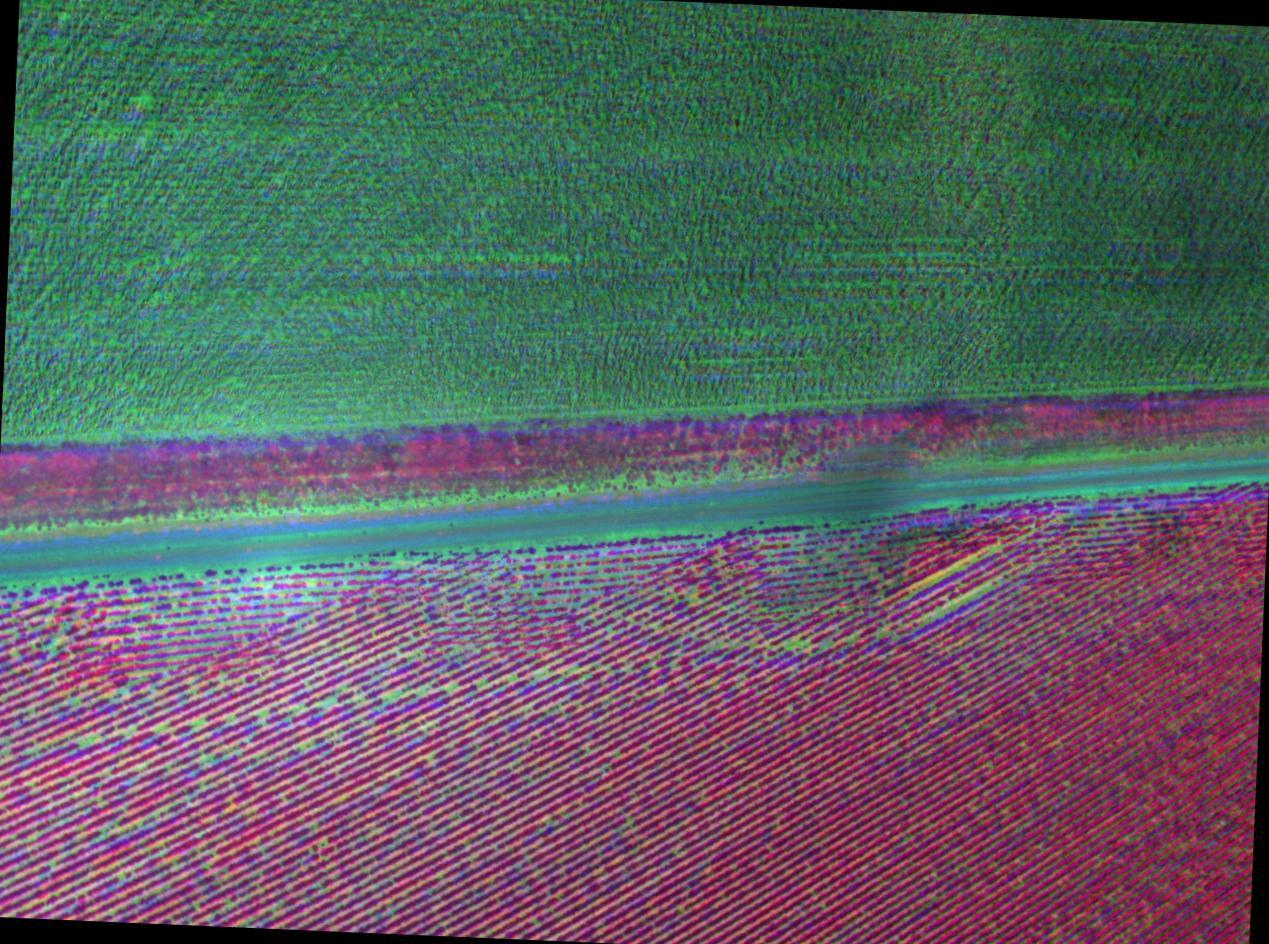dc: (80, 734, 92, 745), (155, 724, 165, 735), (785, 640, 795, 650), (225, 716, 236, 725), (259, 712, 268, 719)
